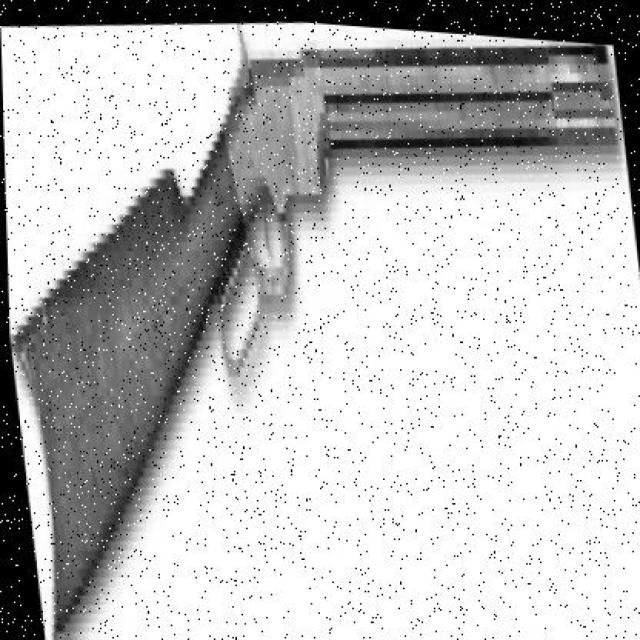weapon: (8, 29, 618, 636)
